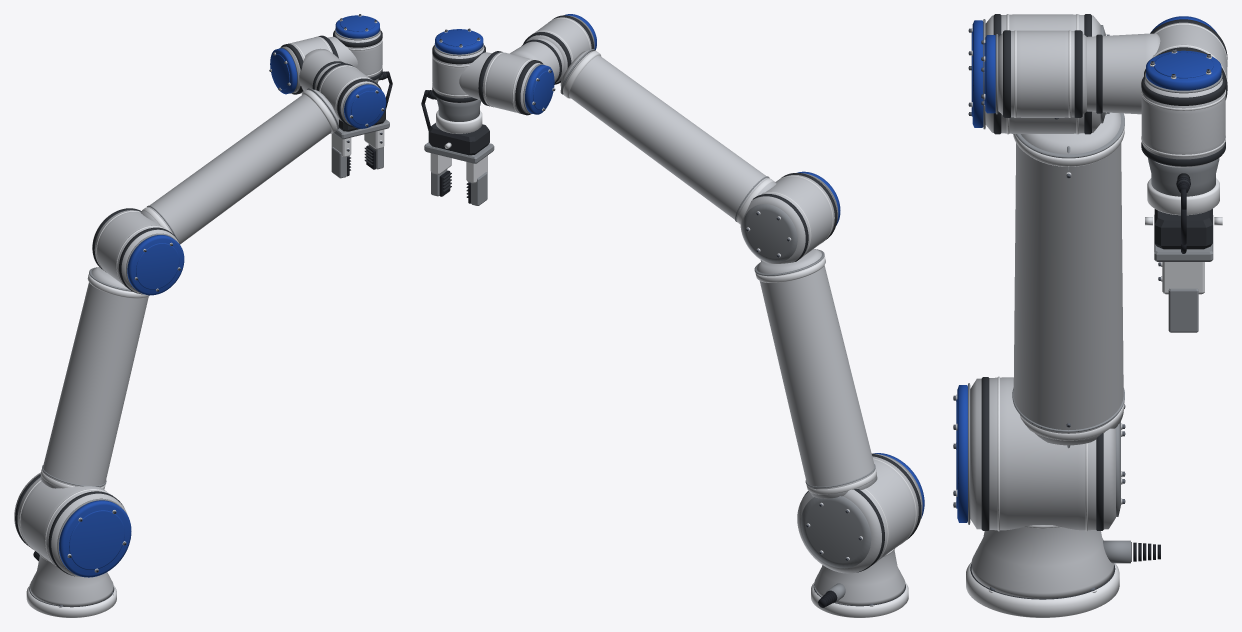
File: robot.glb
The picture shows the model from 3 angles, left to right: view 1: azimuth 30°, elevation 25°; view 2: azimuth 150°, elevation 25°; view 3: azimuth 270°, elevation 25°; orthographic projection. The views are drawn at different scales.
Parts seen in each view (by area): view 1: UR10e_2_Silver.001, UR10e_3_Silver.001, UR10e_1_Silver.001, UR10e_2_Blue.001, UR10e_3_Blue.001, UR10e_4_Silver.001, UR10e_4_Blue.001, UR10e_5_Silver.001, UR10e_6_Satin.001, UR10e_0_Machined.001, UR10e_5_Blue.001, UR10e_2_Machined.001 (+6 smaller); view 2: UR10e_2_Silver.001, UR10e_3_Silver.001, UR10e_1_Silver.001, UR10e_1_Satin.001, UR10e_2_Satin.001, UR10e_4_Silver.001, UR10e_6_Satin.001, UR10e_5_Silver.001, UR10e_6_Graphite.001, UR10e_6_Machined.001, UR10e_2_Machined.001, UR10e_0_Machined.001 (+5 smaller); view 3: UR10e_2_Silver.001, UR10e_1_Silver.001, UR10e_3_Silver.001, UR10e_4_Silver.001, UR10e_5_Silver.001, UR10e_6_Satin.001, UR10e_0_Machined.001, UR10e_6_Machined.001, UR10e_6_Blue.001, UR10e_1_Graphite.001, UR10e_6_Graphite.001, UR10e_2_Machined.001 (+16 smaller).
Boxes of the visible parts, x1,y1,x2,y2 form: UR10e_2_Silver.001: (40,210,179,488); UR10e_3_Silver.001: (140,65,377,244); UR10e_1_Silver.001: (14,472,127,606); UR10e_2_Blue.001: (59,500,131,577); UR10e_3_Blue.001: (127,235,184,295); UR10e_4_Silver.001: (283,36,342,92); UR10e_4_Blue.001: (344,84,386,128); UR10e_5_Silver.001: (328,32,382,80); UR10e_6_Satin.001: (331,28,389,178); UR10e_0_Machined.001: (26,584,116,617); UR10e_5_Blue.001: (270,48,297,94); UR10e_2_Machined.001: (40,210,168,572); UR10e_2_Silver.001: (740,175,877,498); UR10e_3_Silver.001: (526,17,776,221); UR10e_1_Silver.001: (797,453,922,605); UR10e_1_Satin.001: (801,496,871,568); UR10e_2_Satin.001: (742,204,922,508); UR10e_4_Silver.001: (478,38,564,113); UR10e_6_Satin.001: (424,43,494,205); UR10e_5_Silver.001: (432,47,491,103); UR10e_6_Graphite.001: (427,90,489,197); UR10e_6_Machined.001: (430,30,487,183); UR10e_2_Machined.001: (746,175,876,494); UR10e_0_Machined.001: (811,581,908,617); UR10e_2_Silver.001: (985,14,1123,445); UR10e_1_Silver.001: (970,377,1115,598); UR10e_3_Silver.001: (998,30,1086,117); UR10e_4_Silver.001: (1087,22,1227,114); UR10e_5_Silver.001: (1141,79,1225,167); UR10e_6_Satin.001: (1145,72,1222,332); UR10e_0_Machined.001: (966,562,1119,617); UR10e_6_Machined.001: (1145,51,1222,294); UR10e_6_Blue.001: (1146,50,1221,90); UR10e_1_Graphite.001: (981,377,1103,530); UR10e_6_Graphite.001: (1154,173,1212,249); UR10e_2_Machined.001: (956,14,1124,508).
Bounding box in the file's own units: 0.9764 × 1.09 × 0.339.
